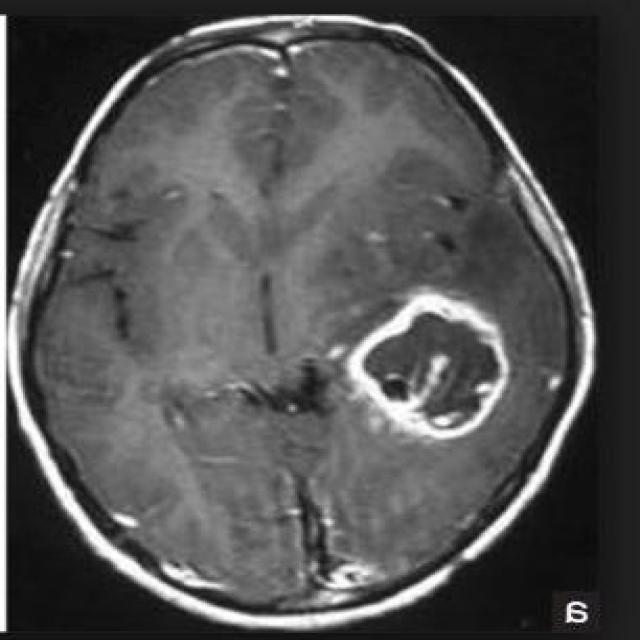Tumor-Cell: (345, 285, 504, 435)
